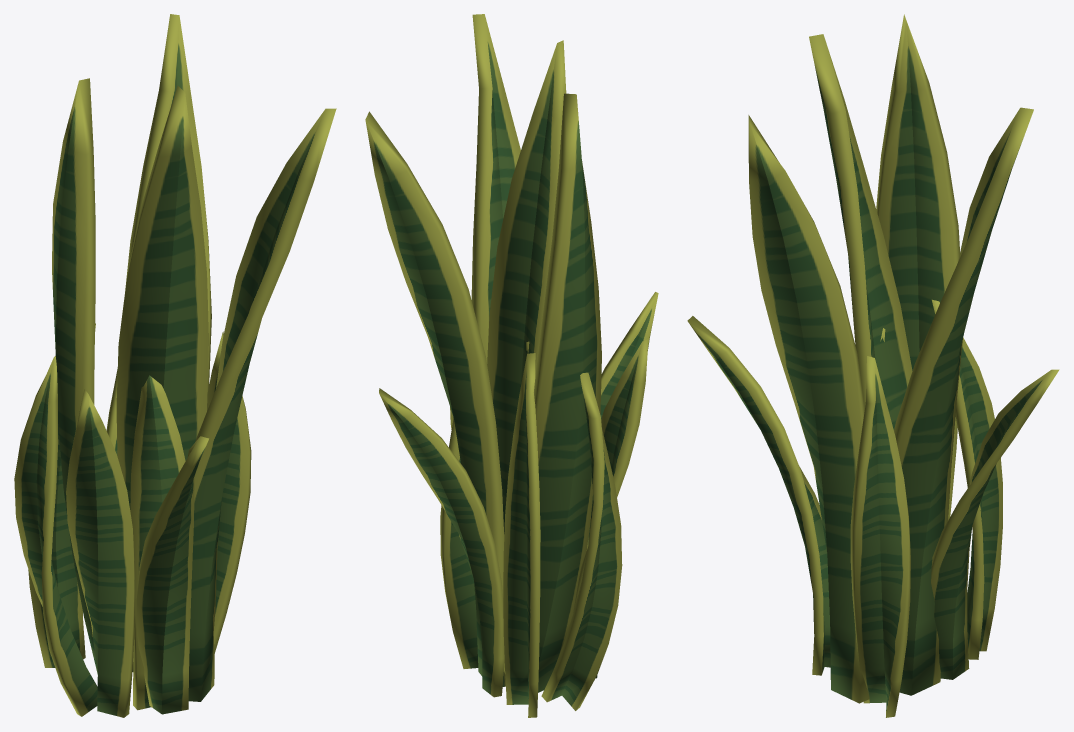
The model's file is SnakePlant.fbx.
The picture shows the model from 3 angles, left to right: view 1: azimuth 30°, elevation 25°; view 2: azimuth 150°, elevation 25°; view 3: azimuth 270°, elevation 25°; orthographic projection. The views are drawn at different scales.
Visible parts, largest first — view 1: Plane.012; view 2: Plane.012; view 3: Plane.012.
Part boxes in pixels (box(x1,y1,x2,y2)): Plane.012: box(14, 14, 336, 717); Plane.012: box(365, 14, 658, 717); Plane.012: box(687, 14, 1059, 717).
Size of the model in its own units: 0.6982 by 1.88 by 0.9608.
